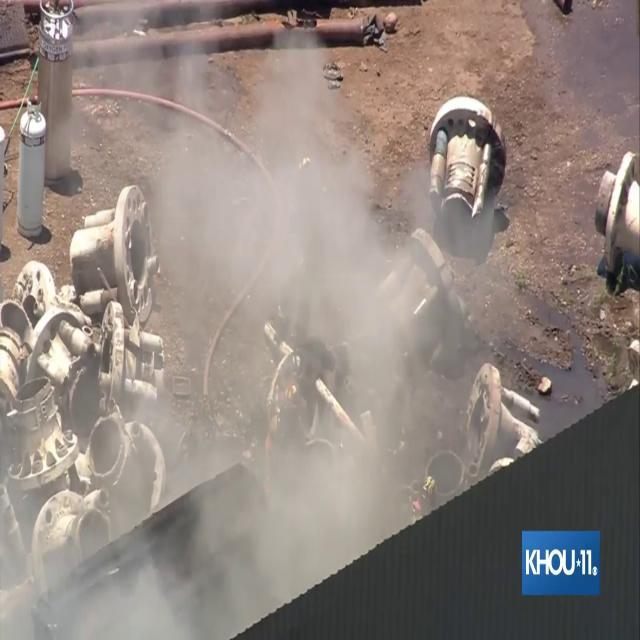Smoke: (106, 11, 454, 622)
